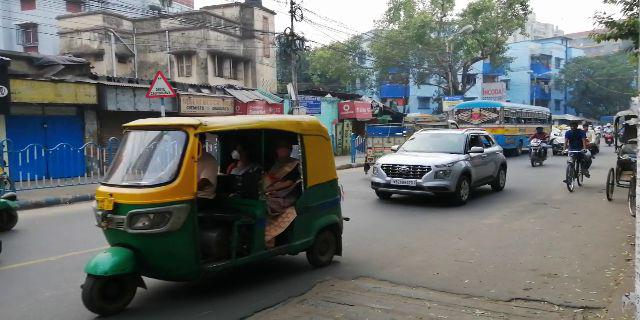Autorickshaw: (77, 115, 354, 308)
Bus: (447, 97, 554, 154)
Car: (378, 132, 509, 199)
Cycle: (561, 120, 598, 201)
Motorbike: (528, 122, 545, 169)
